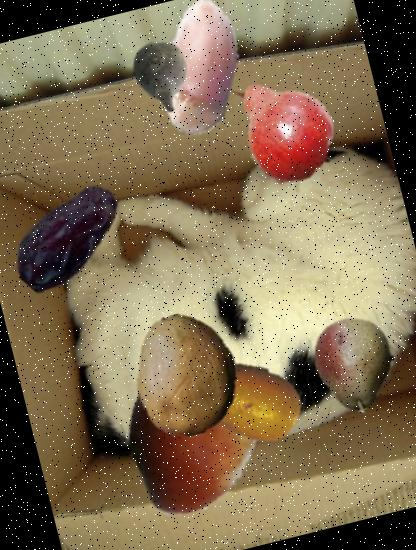Beetroot: (115, 27, 211, 124)
Dates: (0, 160, 144, 313)
Hazelnut: (118, 0, 288, 153)
Kumquats: (190, 339, 315, 464)
Nut: (107, 352, 280, 524)
Papaya: (112, 300, 260, 450)
Pear: (207, 52, 354, 199), (296, 306, 414, 424)
